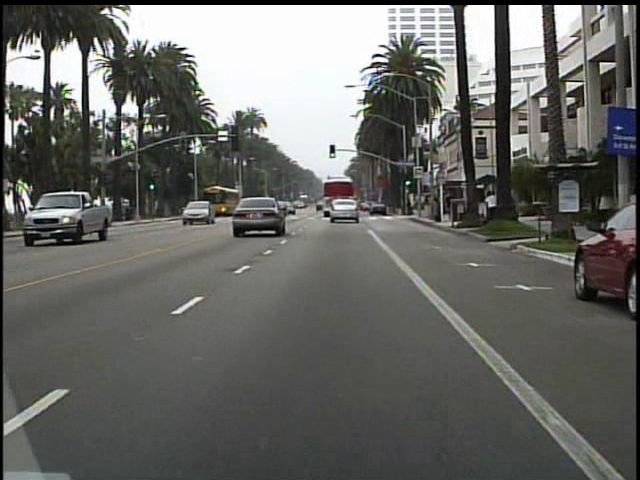person: (484, 190, 501, 226)
